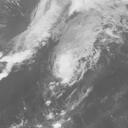cyclone: (49, 48, 87, 85)
